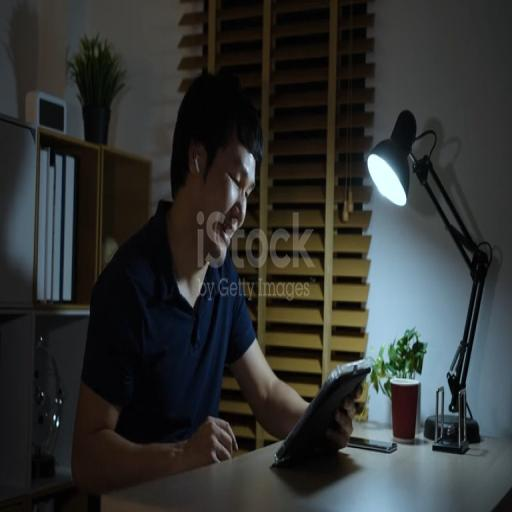earphone: (191, 153, 203, 170)
